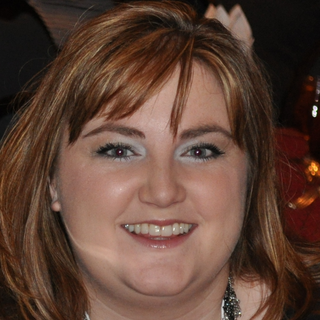eye: (171, 138, 221, 165), (95, 139, 142, 162)
